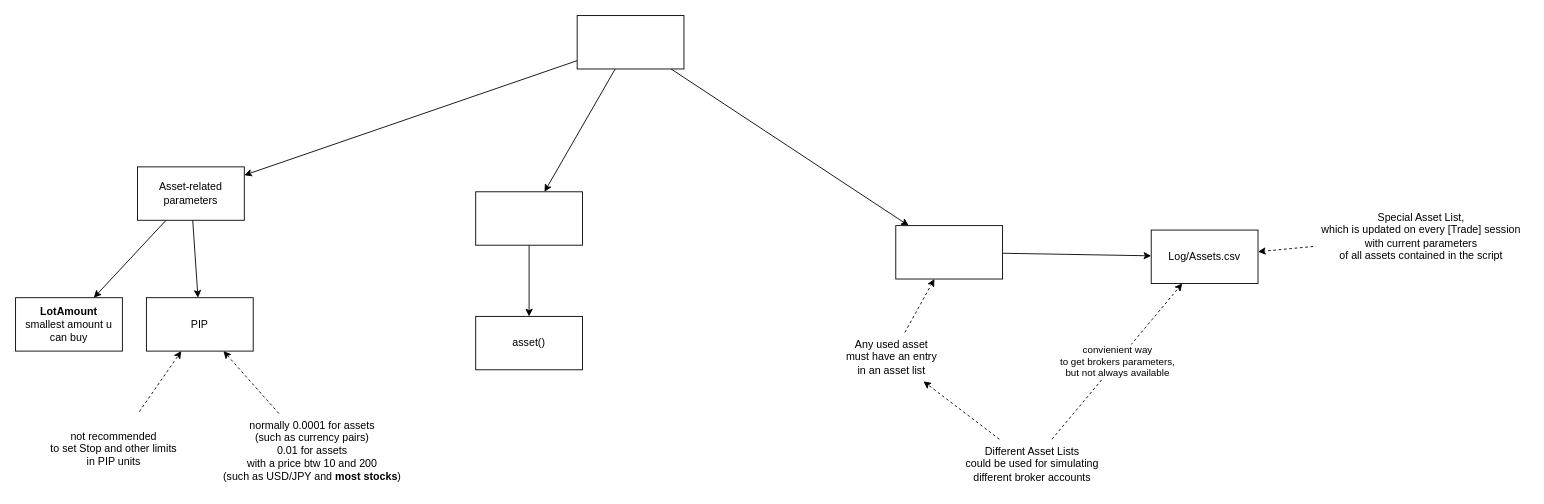
Some shapes in this 1544 by 504 pixel diagram are drawn without their labels. Each missing label, with the box of its shape:
Assets: (576, 15, 684, 69)
AssetsFix.csv: (895, 225, 1003, 279)
Predefined strings: " Asset "; " Assets ": (475, 191, 583, 245)
